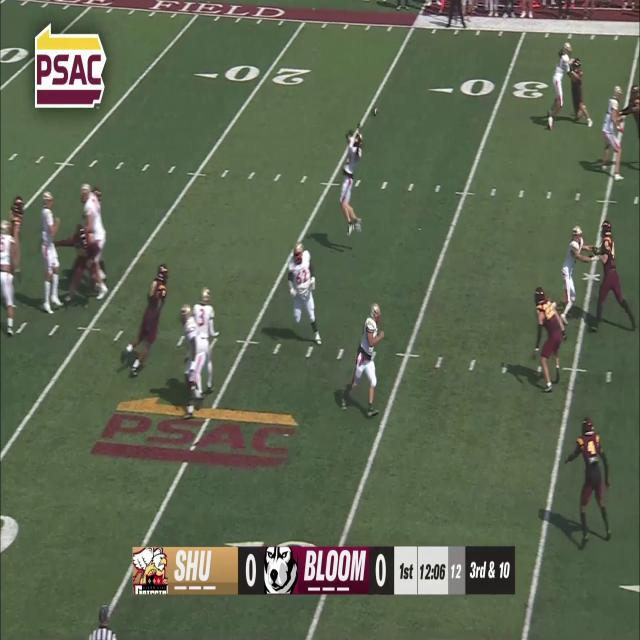football: (372, 106, 378, 116)
